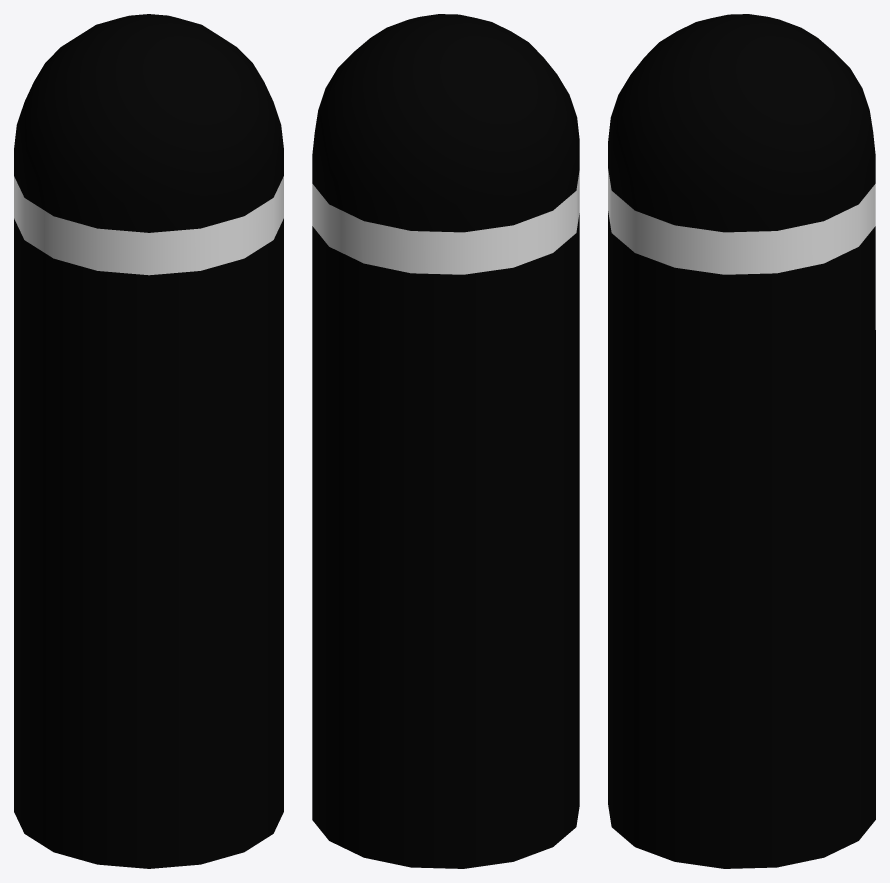
3 renders of one model, left to right at view 1: azimuth 30°, elevation 25°; view 2: azimuth 150°, elevation 25°; view 3: azimuth 270°, elevation 25°, orthographic.
Visible parts, largest first — view 1: Joint_0_Object_1, Joint_0_Object_0; view 2: Joint_0_Object_1, Joint_0_Object_0; view 3: Joint_0_Object_1, Joint_0_Object_0.
Boxes of the visible parts, x1=… form: Joint_0_Object_1: x1=14, y1=14, x2=283, y2=868; Joint_0_Object_0: x1=14, y1=176, x2=283, y2=275; Joint_0_Object_1: x1=312, y1=14, x2=579, y2=868; Joint_0_Object_0: x1=312, y1=171, x2=579, y2=274; Joint_0_Object_1: x1=608, y1=14, x2=875, y2=868; Joint_0_Object_0: x1=608, y1=169, x2=875, y2=274.
Bounding box in the file's own units: 247 × 799 × 247.
2 materials, 1 textured.
